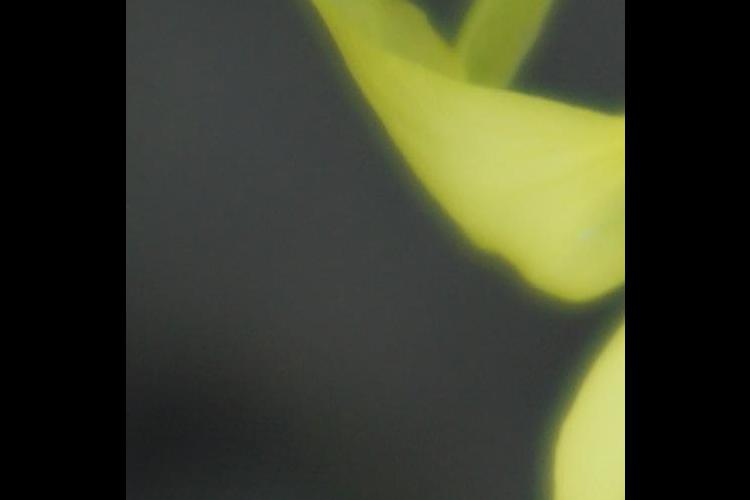yellow: (388, 1, 621, 500)
